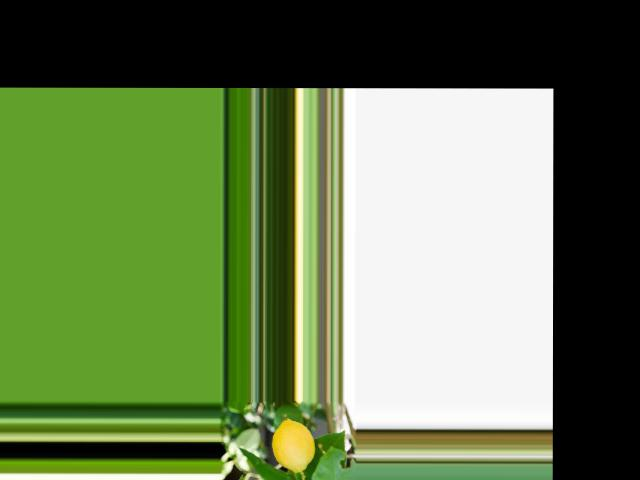lemon: (266, 412, 315, 473)
